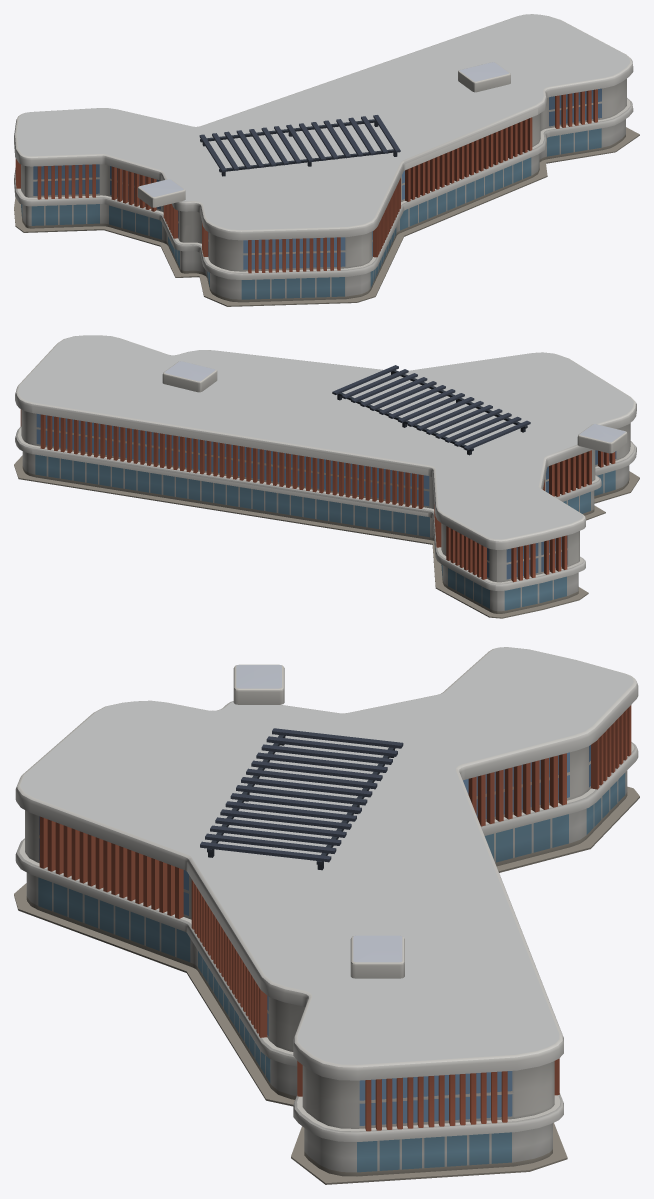
Rendered from jungbomaru.glb.
3 renders of one model, top to bottom at view 1: azimuth 30°, elevation 25°; view 2: azimuth 150°, elevation 25°; view 3: azimuth 270°, elevation 25°, orthographic. The views are drawn at different scales.
Visible parts, largest first — view 1: LM_jungbomaru; view 2: LM_jungbomaru; view 3: LM_jungbomaru.
Part boxes in pixels (x1,y1,x2,y2): LM_jungbomaru: (14,14,639,306); LM_jungbomaru: (14,335,639,618); LM_jungbomaru: (14,647,639,1184).
Bounding box in the file's own units: 118 × 17.1 × 73.83.
